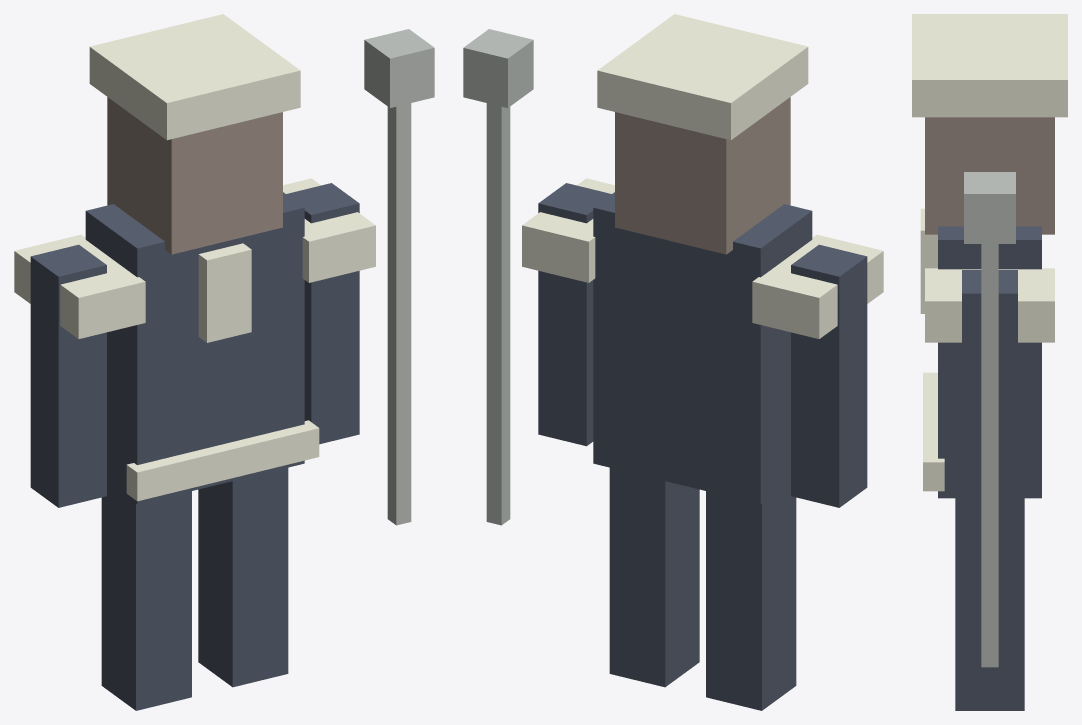
File: 18_maven_mossguard_medic_near_fuel.glb
3 views of the same model, side by side, from view 1: azimuth 30°, elevation 25°; view 2: azimuth 150°, elevation 25°; view 3: azimuth 270°, elevation 25° (orthographic).
Visible parts, largest first — view 1: Maven Mossguard, Medic near Fuel; view 2: Maven Mossguard, Medic near Fuel; view 3: Maven Mossguard, Medic near Fuel.
Boxes of the visible parts, x1=… form: Maven Mossguard, Medic near Fuel: x1=14, y1=14, x2=434, y2=710; Maven Mossguard, Medic near Fuel: x1=463, y1=14, x2=883, y2=710; Maven Mossguard, Medic near Fuel: x1=912, y1=14, x2=1067, y2=710.
Bounding box in the file's own units: 0.9955 × 1.57 × 0.3531.
